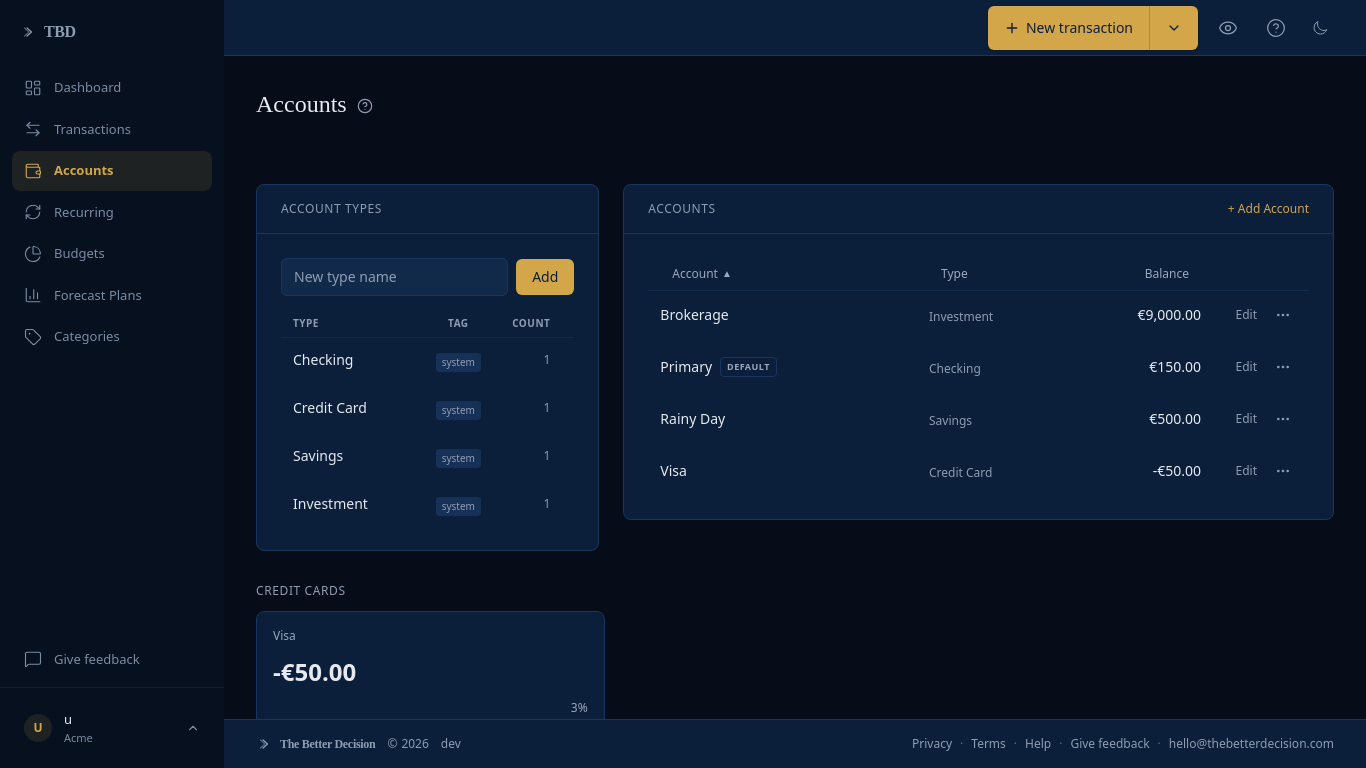
Test: CC Model — upcoming payments mini-list › shows Upcoming payments for a full_balance CC and hides removed strategy options
This screenshot has width=1366, height=768.
Step 1. Click the 4th button "Edit " → (1246, 471), box [1236,463,1257,479]
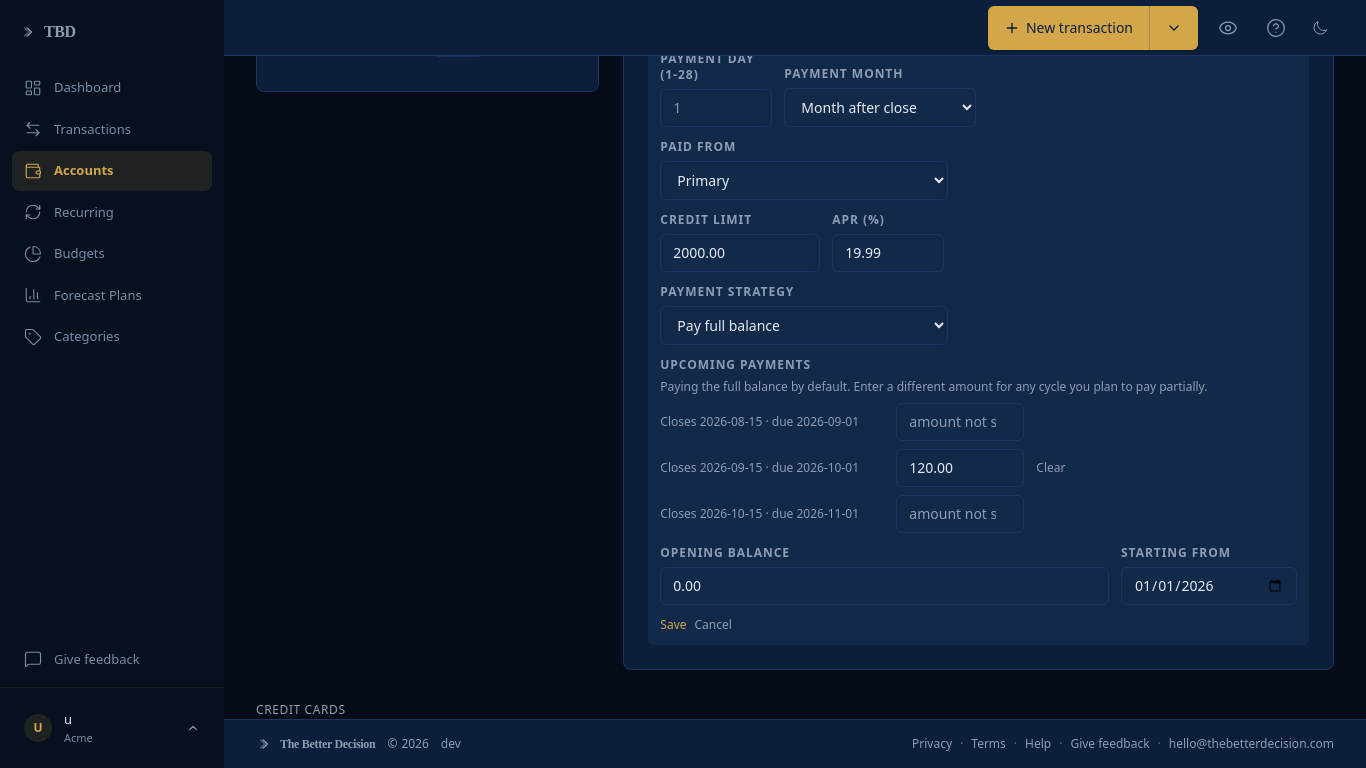
Result: the text "Upcoming payments" is shown at [660,356,811,373]
Result: the text "Paying the full balance by default. Enter a different amount" is shown at [660,378,1207,395]
